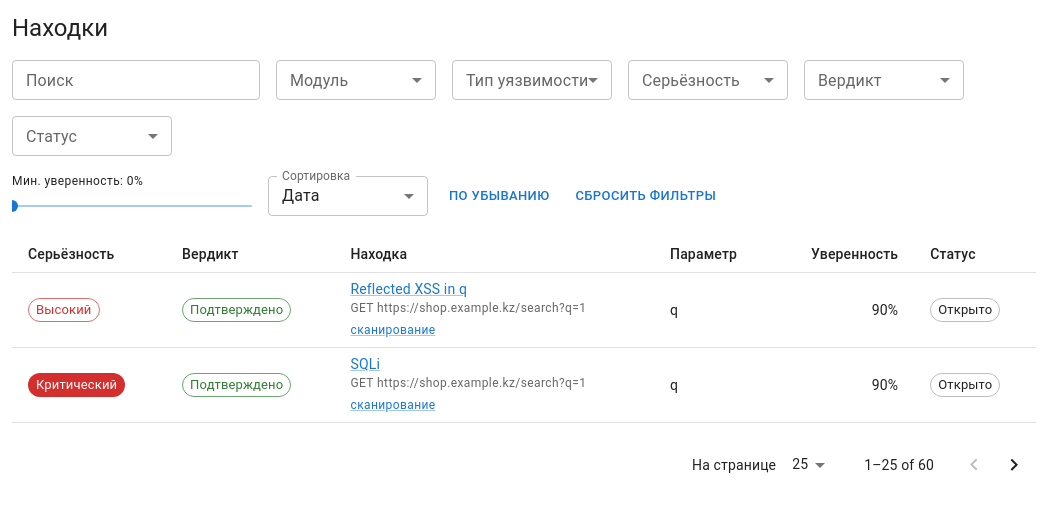
it: FindingsPage › filter Вердикт updates the query string
Expected: the table named "Список находок" is shown, [12,236,1036,423]
Click the 4th dropdown named "Вердикт": (884, 80) [804,60,964,100]
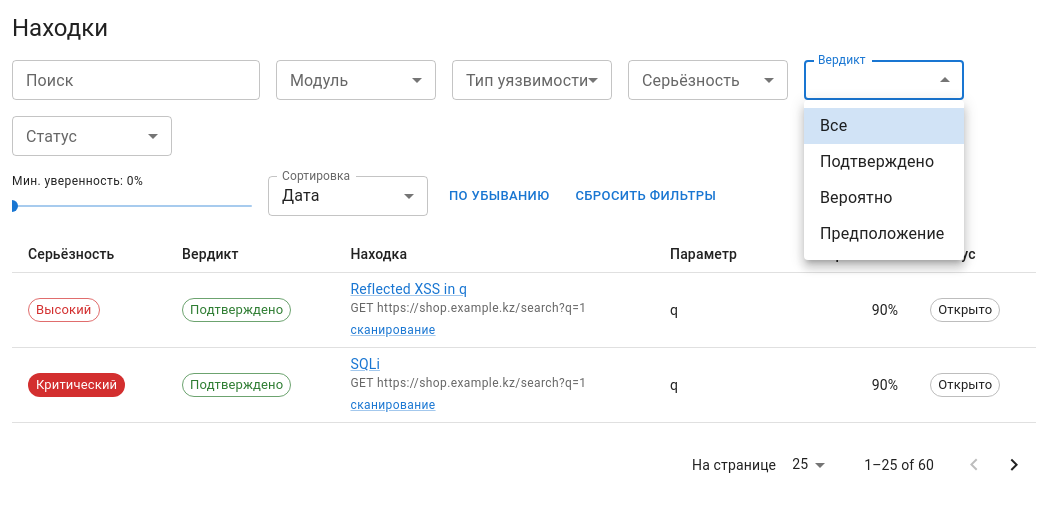
Click the option "Вероятно": (856, 198) [820,188,893,207]
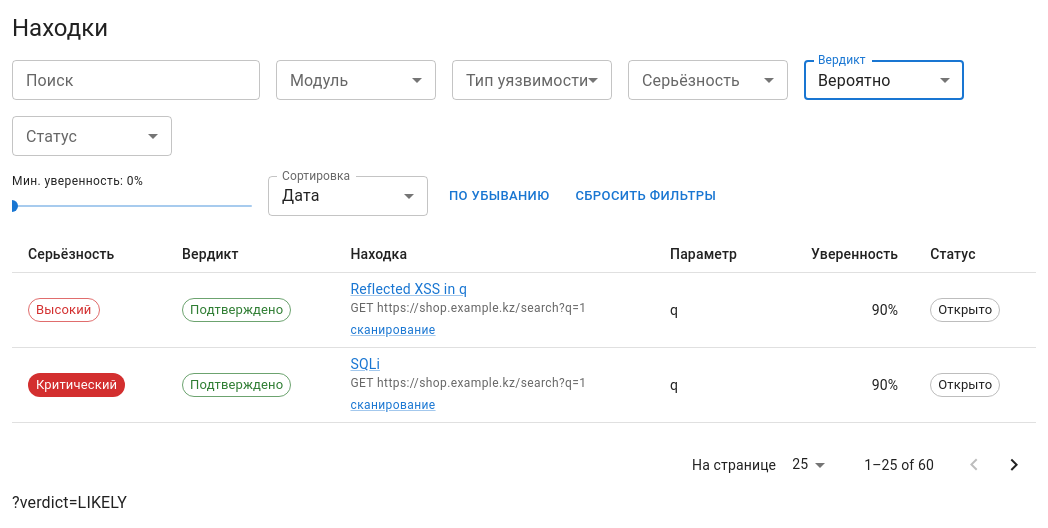
Now the text with test id "search" shows "verdict=LIKELY", box [12,493,127,512]
